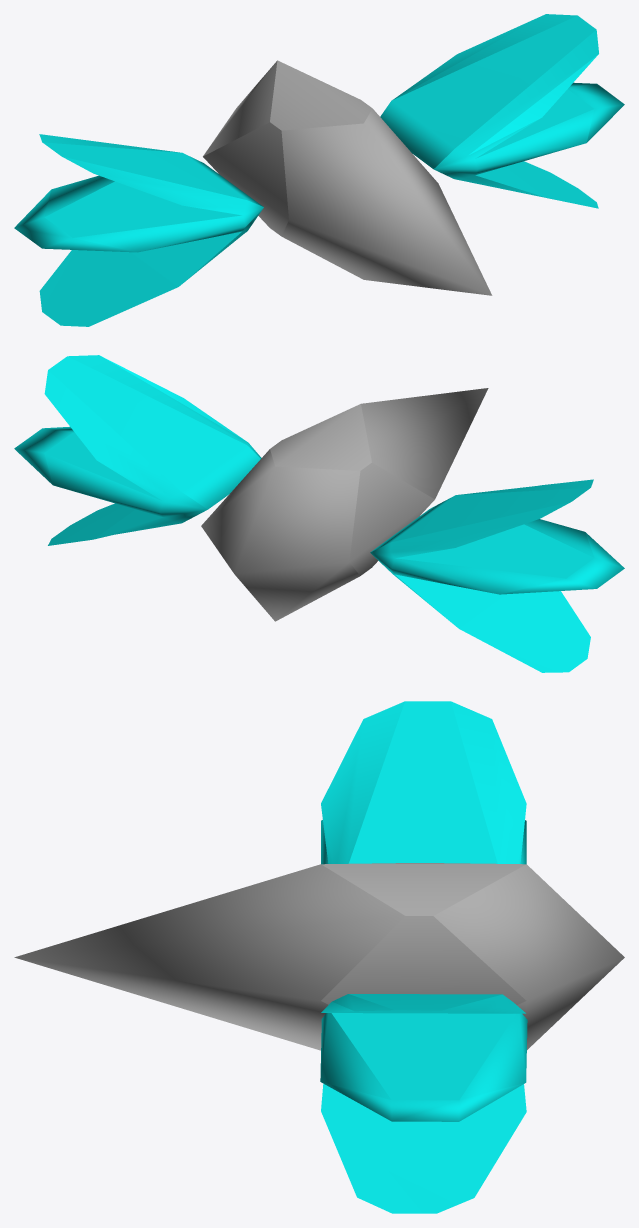
Rendered from fiter2.fbx.
3 renders of one model, top to bottom at view 1: azimuth 30°, elevation 25°; view 2: azimuth 150°, elevation 25°; view 3: azimuth 270°, elevation 25°, orthographic. The views are drawn at different scales.
Parts seen in each view (by area): view 1: pCube3; view 2: pCube3; view 3: pCube3.
Boxes of the visible parts, box(x1,y1,x2,y2) form: pCube3: box(14, 14, 624, 326); pCube3: box(14, 355, 624, 672); pCube3: box(14, 701, 624, 1213).
Size of the model in its own units: 3.92 by 1.09 by 2.97.
